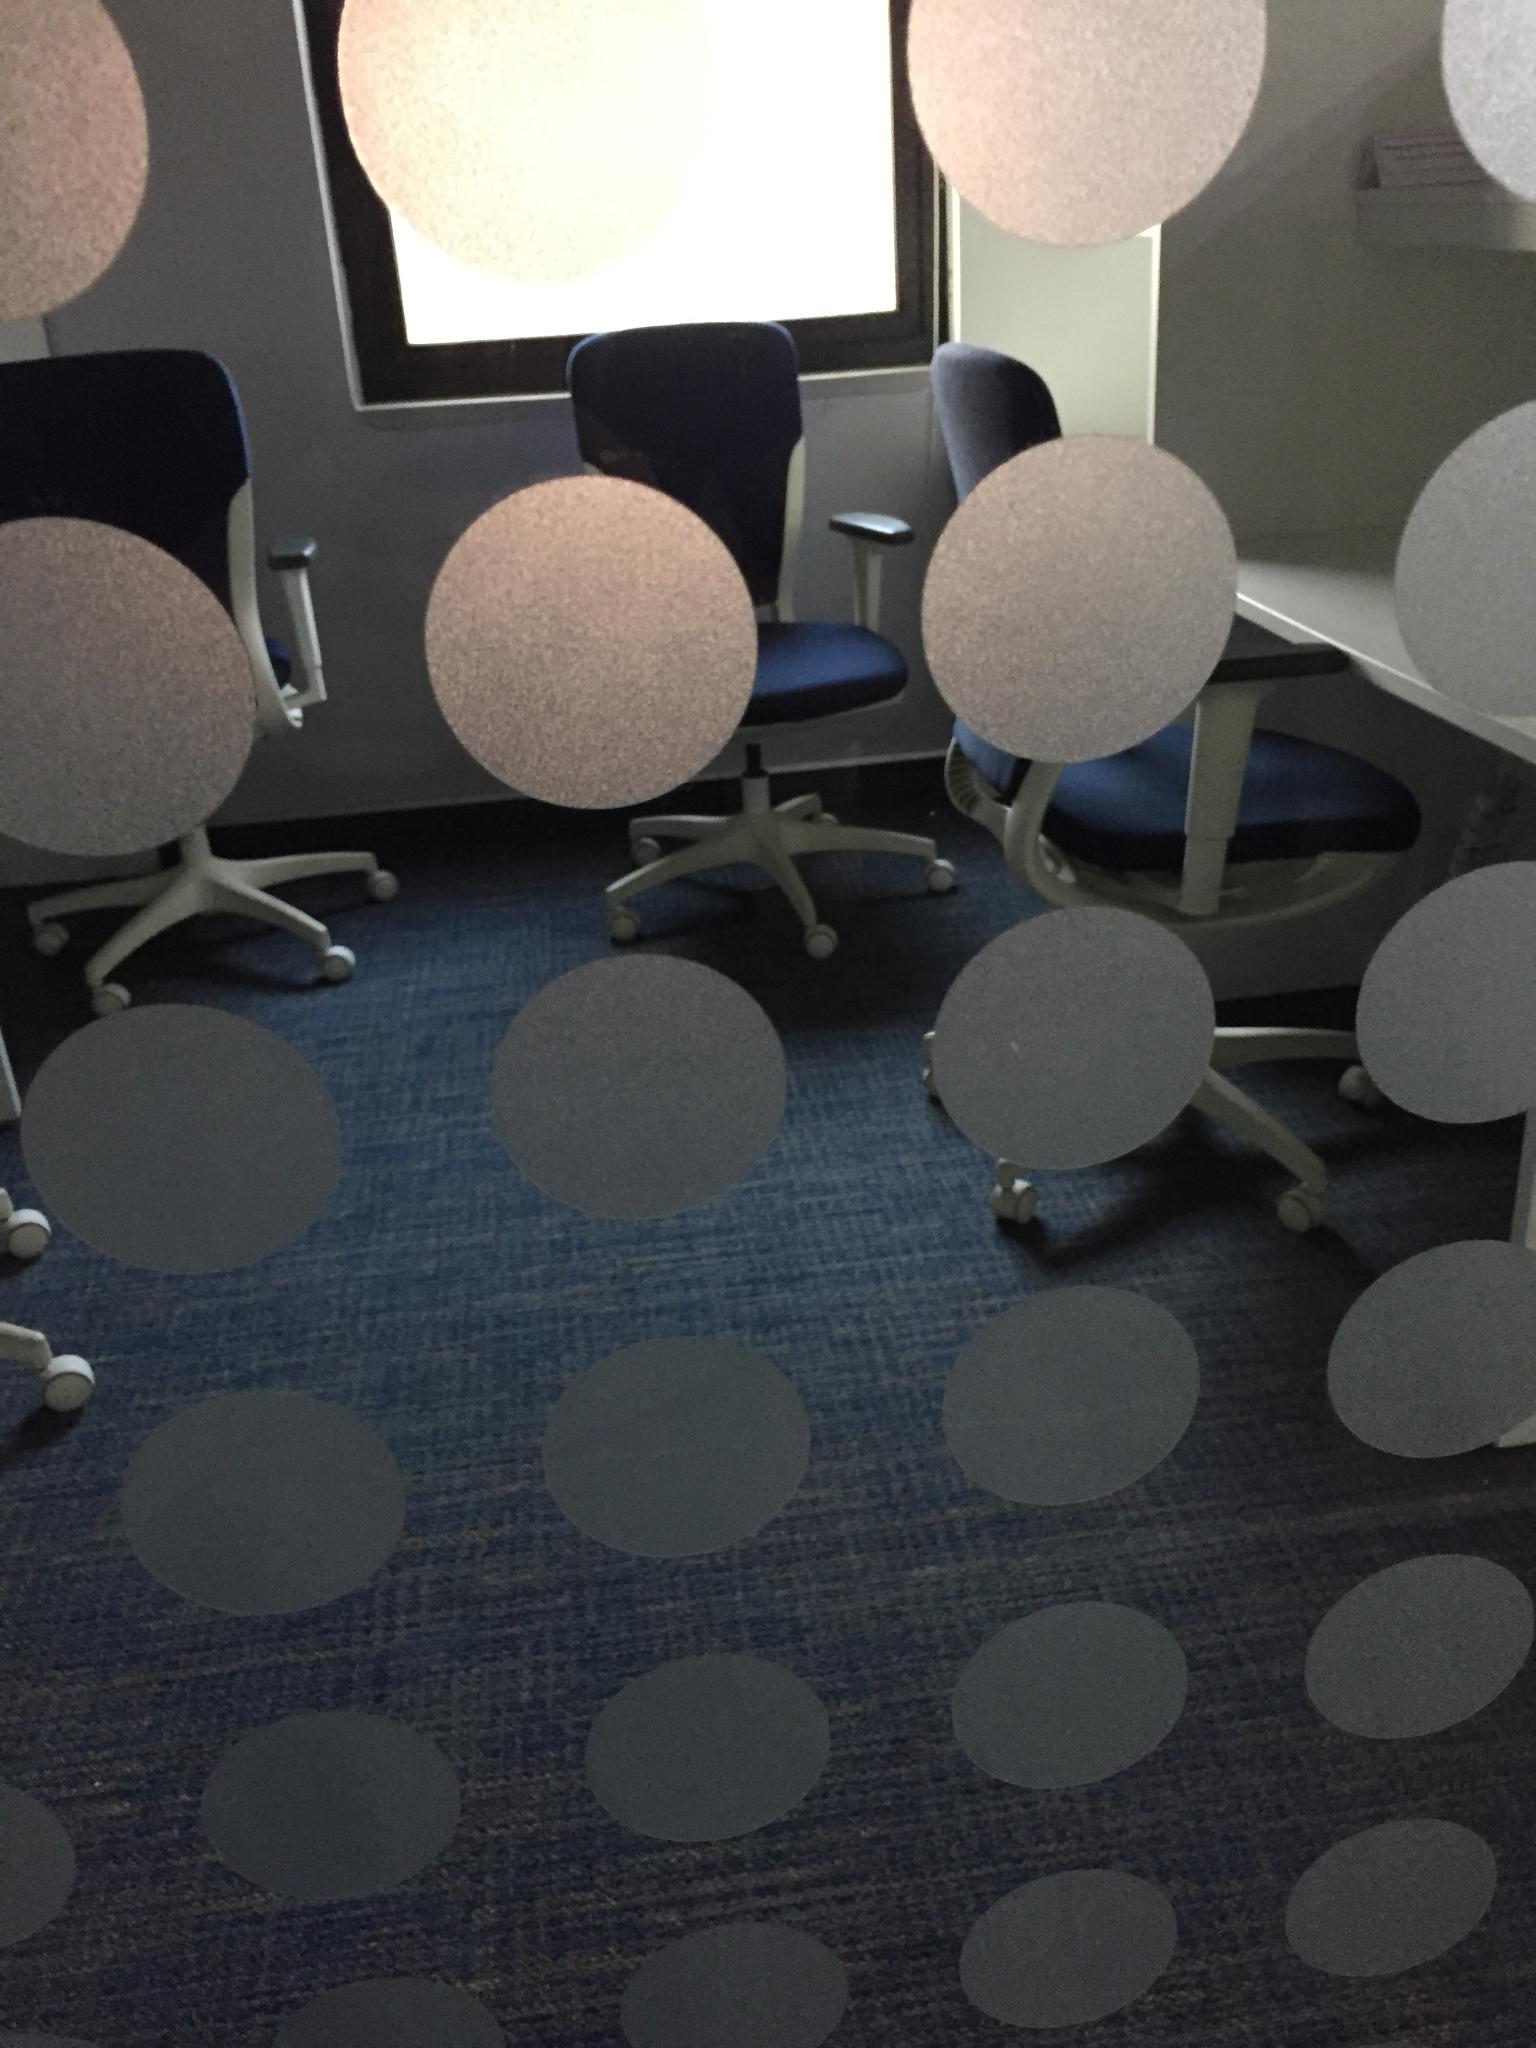chair: (937, 314, 1425, 1266), (0, 345, 400, 1018), (563, 319, 958, 959)
